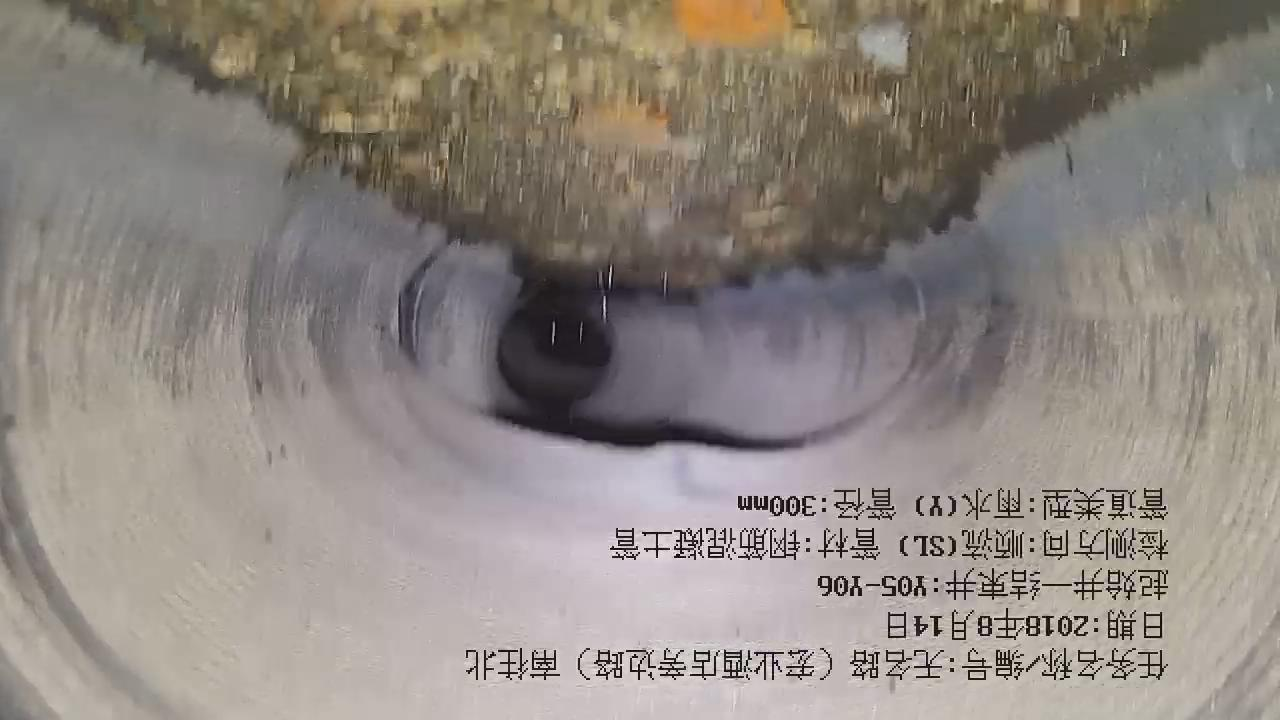BX: (368, 248, 923, 489)
CJ: (59, 1, 1280, 291)
